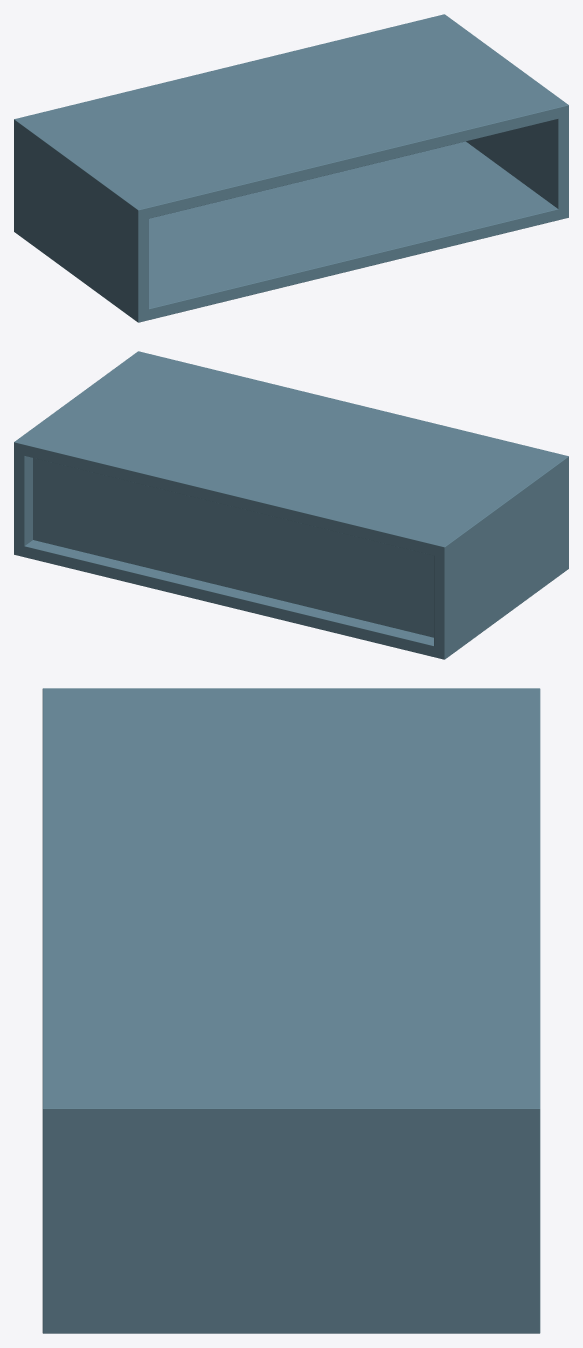
Rendered from MOD-2X05-A-B-AC.glb.
3 views of the same model, one above another, from view 1: azimuth 30°, elevation 25°; view 2: azimuth 150°, elevation 25°; view 3: azimuth 270°, elevation 25° (orthographic). The views are drawn at different scales.
Size of the model in its own units: 720 by 180 by 360.
